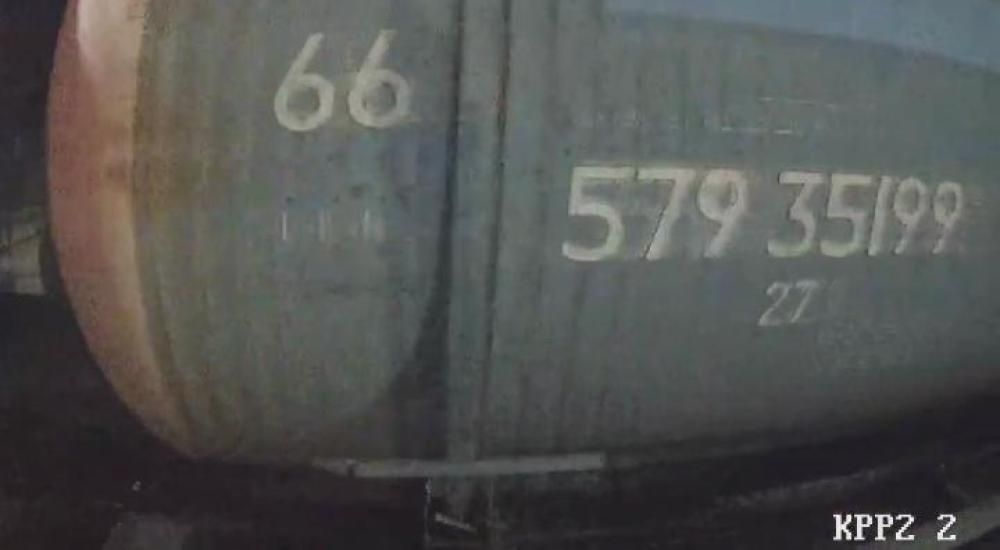Wagon-number: (558, 158, 968, 267)
